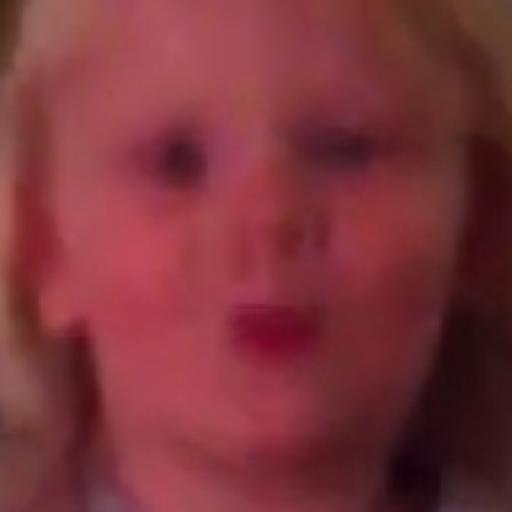Autism: (56, 33, 499, 512)
